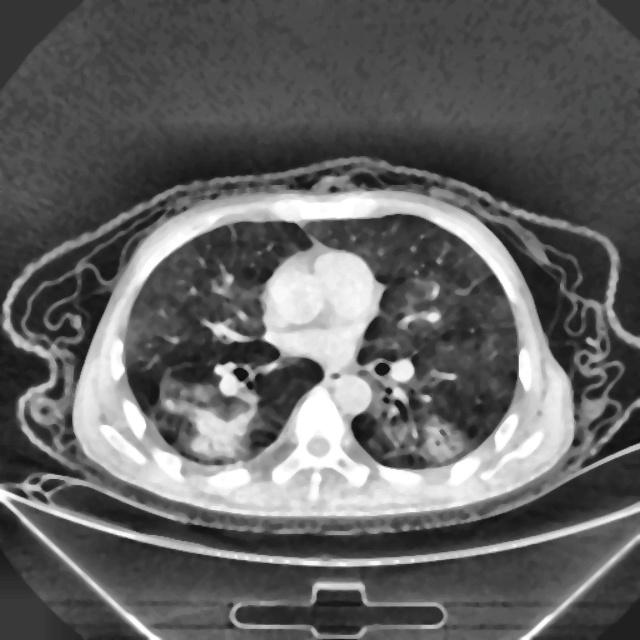covid: (68, 177, 579, 531)
